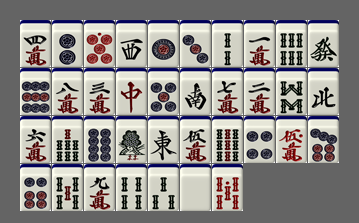0m: (276, 116, 307, 163)
0p: (84, 20, 115, 67)
0s: (212, 164, 243, 211)
1m: (244, 20, 275, 67)
1p: (148, 20, 179, 67)
1s: (116, 116, 147, 163)
1z: (148, 116, 179, 163)
2m: (244, 68, 275, 115)
2p: (52, 20, 83, 67)
2s: (212, 20, 243, 67)
2z: (180, 68, 211, 115)
3m: (84, 68, 115, 115)
3p: (180, 20, 211, 67)
3s: (148, 164, 179, 211)
3z: (116, 20, 147, 67)
4m: (20, 20, 51, 67)
4p: (244, 116, 275, 163)
4s: (116, 164, 147, 211)
4z: (308, 68, 339, 115)
5m: (180, 116, 211, 163)
5p: (148, 68, 179, 115)
5s: (52, 164, 83, 211)
5z: (180, 164, 211, 211)
6m: (20, 116, 51, 163)
6p: (20, 164, 51, 211)
6s: (276, 20, 307, 67)
6z: (308, 20, 339, 67)
7m: (212, 68, 243, 115)
7p: (308, 116, 339, 163)
7s: (52, 116, 83, 163)
7z: (116, 68, 147, 115)
8m: (52, 68, 83, 115)
8p: (84, 116, 115, 163)
8s: (276, 68, 307, 115)
9m: (84, 164, 115, 211)
9p: (20, 68, 51, 115)
9s: (212, 116, 243, 163)
